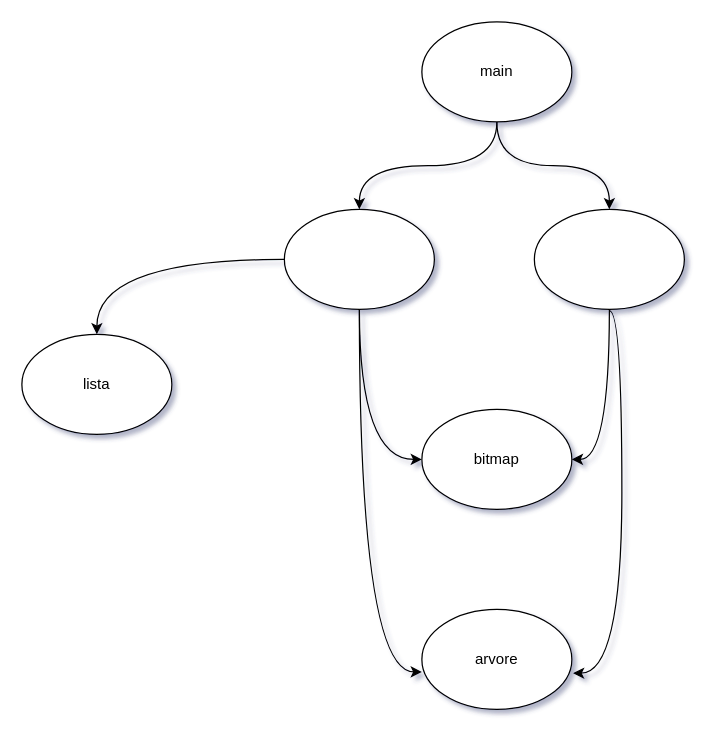
Some shapes in this 714 by 739 pixel diagram are drawn without their labels. The shapes that lost their labels are listed below. From the top down, each one's centre as x and y in pixels, then its label:
At pixel 358 258: "codificador".
At pixel 608 258: "decodificador".
